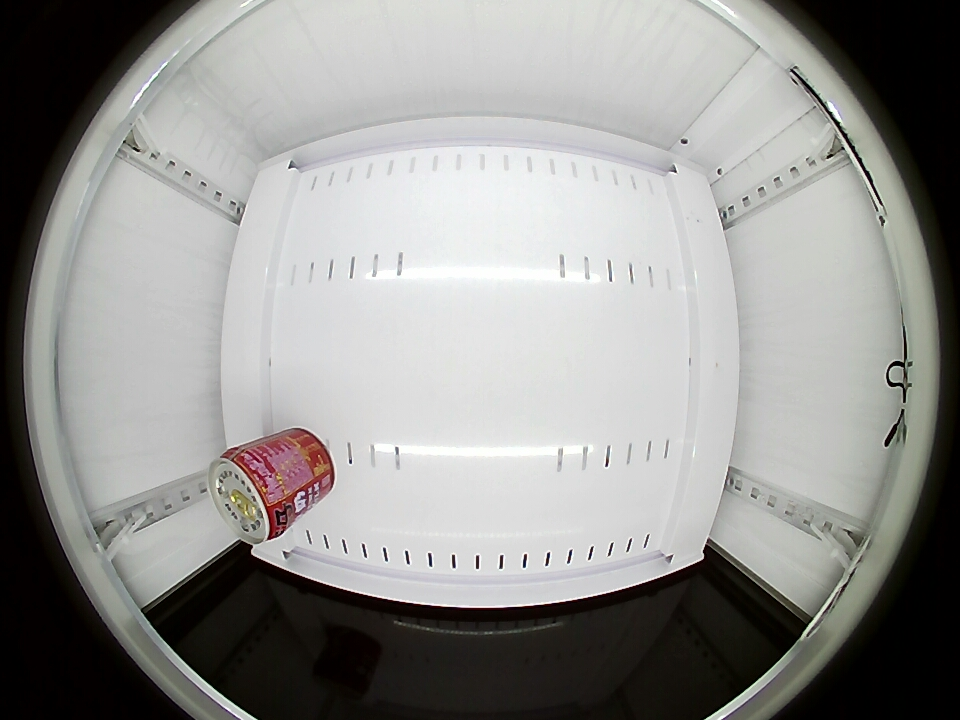wangzainiunai: (209, 444, 298, 547)
